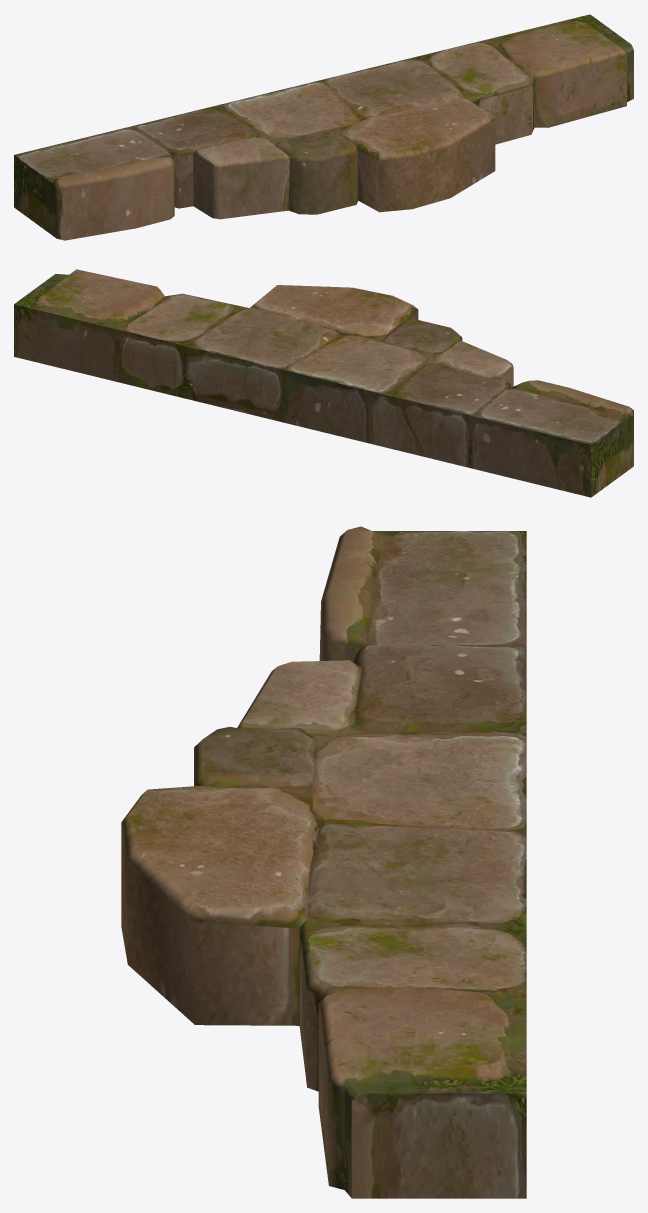
3 renders of one model, top to bottom at view 1: azimuth 30°, elevation 25°; view 2: azimuth 150°, elevation 25°; view 3: azimuth 270°, elevation 25°, orthographic. The views are drawn at different scales.
Parts seen in each view (by area): view 1: SM_Human_Ruins_StoneFloor_Dmg_01_LOD0; view 2: SM_Human_Ruins_StoneFloor_Dmg_01_LOD0; view 3: SM_Human_Ruins_StoneFloor_Dmg_01_LOD0.
Boxes of the visible parts, x1,y1,x2,y2 form: SM_Human_Ruins_StoneFloor_Dmg_01_LOD0: [14, 14, 633, 240]; SM_Human_Ruins_StoneFloor_Dmg_01_LOD0: [14, 269, 633, 497]; SM_Human_Ruins_StoneFloor_Dmg_01_LOD0: [121, 526, 526, 1198].
Size of the model in its own units: 4 by 0.3733 by 1.22.
Materials: 1 (1 with a texture image).
